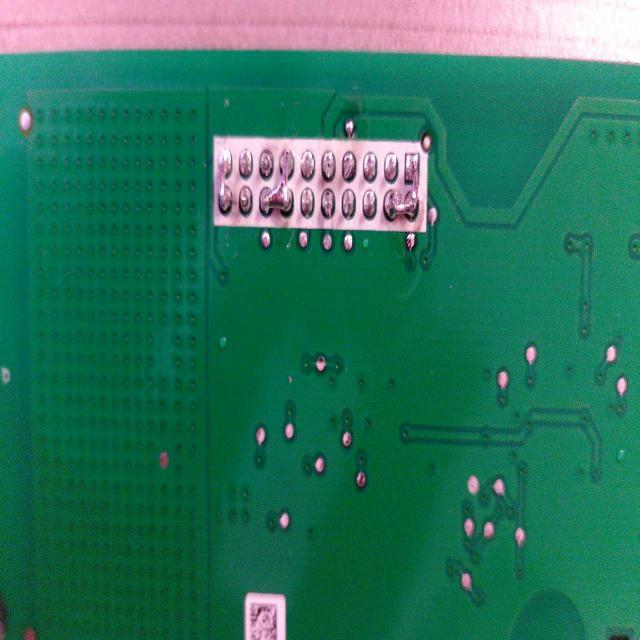Soldering shorted: (384, 151, 421, 226), (258, 147, 294, 214), (214, 148, 232, 218)
